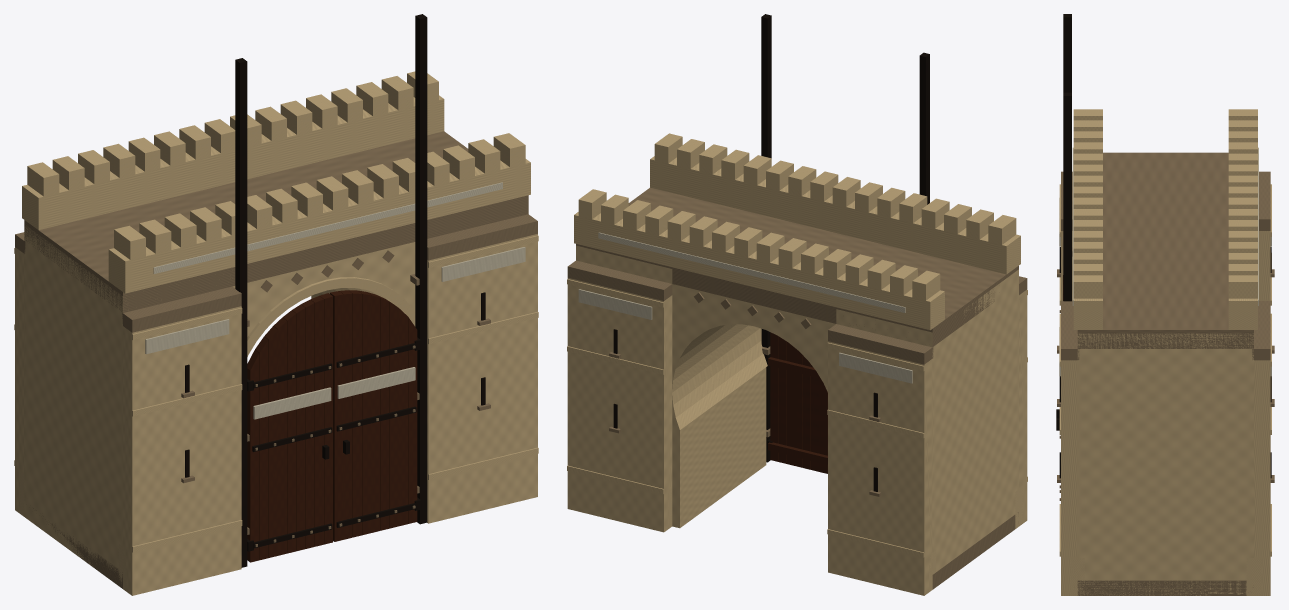
Rendered from Berber_StoneGate_Age4.fbx.
The picture shows the model from 3 angles, left to right: view 1: azimuth 30°, elevation 25°; view 2: azimuth 150°, elevation 25°; view 3: azimuth 270°, elevation 25°; orthographic projection. The views are drawn at different scales.
Parts seen in each view (by area): view 1: left_tower_pier, left_projecting_tower_face, right_projecting_tower_face, continuous_rampart_deck, walkway_parapet.001, walkway_parapet, portcullis_guide_track.001, continuous_horseshoe_gateway, portcullis_guide_track, left_tower_ledge, right_door_plank_8, parapet_owner_band (+57 smaller); view 2: right_projecting_tower_face.001, left_tower_pier, left_projecting_tower_face.001, continuous_horseshoe_gateway, continuous_rampart_deck, walkway_parapet, walkway_parapet.001, portcullis_guide_track.001, parapet_owner_band.001, left_tower_ledge.001, right_tower_ledge.001, left_projecting_tower_face (+51 smaller); view 3: right_tower_pier, continuous_rampart_deck, right_projecting_tower_face.001, right_projecting_tower_face, right_rubble_plinth, portcullis_guide_track.001, walkway_parapet, walkway_parapet.001, right_tower_ledge.001, right_tower_ledge, left_projecting_tower_face.001, crenellation.015 (+36 smaller).
Boxes of the visible parts, x1,y1,x2,y2 form: left_tower_pier: [24, 225, 122, 576]; left_projecting_tower_face: [123, 306, 241, 595]; right_projecting_tower_face: [427, 234, 537, 523]; continuous_rampart_deck: [24, 131, 528, 312]; walkway_parapet.001: [22, 95, 444, 230]; walkway_parapet: [108, 159, 530, 293]; portcullis_guide_track.001: [415, 14, 427, 524]; continuous_horseshoe_gateway: [232, 242, 415, 336]; portcullis_guide_track: [235, 58, 247, 567]; left_tower_ledge: [122, 286, 241, 332]; right_door_plank_8: [330, 291, 343, 541]; parapet_owner_band: [153, 182, 502, 273]; right_projecting_tower_face.001: [567, 278, 672, 532]; left_tower_pier: [836, 269, 1018, 571]; left_projecting_tower_face.001: [828, 341, 932, 595]; continuous_horseshoe_gateway: [672, 284, 835, 528]; continuous_rampart_deck: [576, 187, 1018, 346]; walkway_parapet: [650, 156, 1020, 274]; walkway_parapet.001: [574, 212, 944, 330]; portcullis_guide_track.001: [761, 14, 771, 462]; parapet_owner_band.001: [598, 232, 905, 312]; left_tower_ledge.001: [828, 324, 933, 364]; right_tower_ledge.001: [567, 260, 672, 300]; left_projecting_tower_face: [1019, 289, 1027, 523]; right_tower_pier: [1077, 333, 1253, 595]; continuous_rampart_deck: [1077, 152, 1253, 348]; right_projecting_tower_face.001: [1254, 360, 1270, 595]; right_projecting_tower_face: [1061, 360, 1077, 595]; right_rubble_plinth: [1077, 580, 1253, 595]; portcullis_guide_track.001: [1063, 92, 1071, 301]; walkway_parapet: [1073, 298, 1102, 329]; walkway_parapet.001: [1228, 298, 1257, 329]; right_tower_ledge.001: [1252, 301, 1270, 360]; right_tower_ledge: [1061, 301, 1079, 360]; left_projecting_tower_face.001: [1259, 231, 1270, 300]; crenellation.015: [1073, 275, 1102, 298].
Bounding box in the file's own units: 1000 × 1190 × 520.
5 materials, 5 textured.
